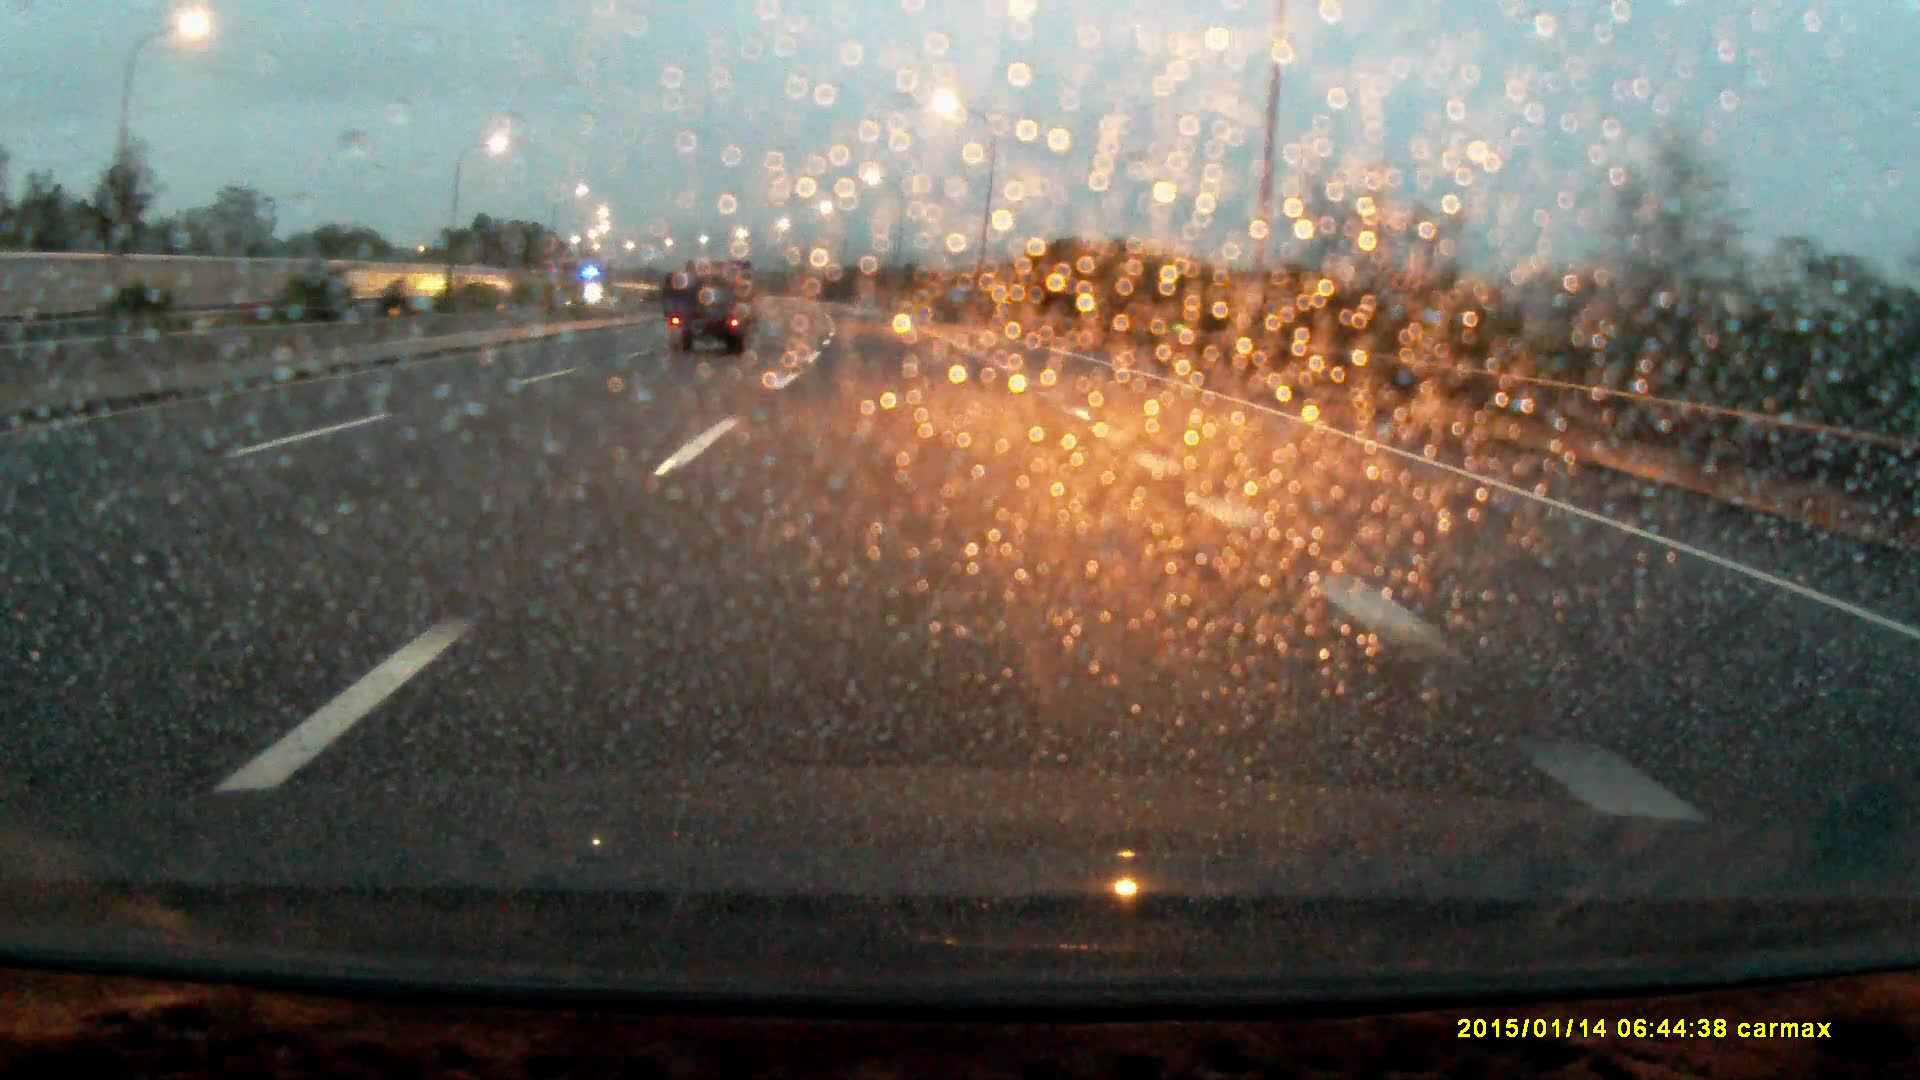vehicle: (670, 264, 760, 361)
